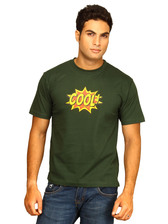clothoes: (22, 53, 148, 190)
